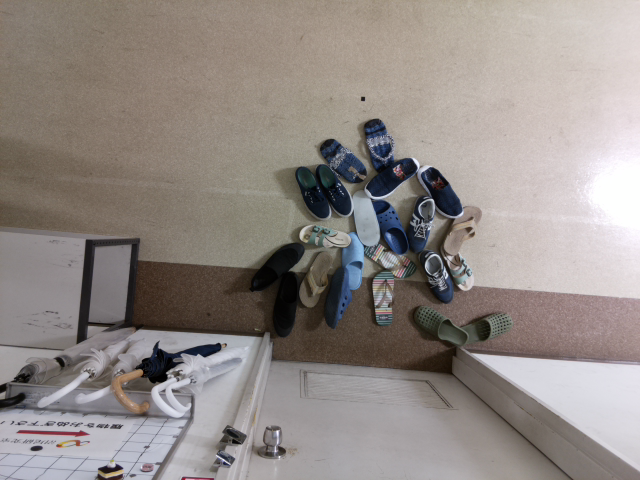Copy of Copy of Copy of Copy of Copy of Copy of Copy of Copy of Copy of Copy of: (247, 241, 307, 293), (437, 202, 485, 257), (360, 239, 420, 280), (416, 247, 461, 300), (295, 247, 335, 306), (436, 240, 478, 294), (349, 183, 384, 246), (323, 264, 355, 332), (269, 271, 301, 338), (336, 229, 368, 290), (293, 221, 354, 251), (406, 194, 437, 253)
Copy of Copy of Copy of Copy of Copy of Copy of Copy of Copy of Copy of shoe: (365, 194, 408, 256)
Copy of Copy of Copy of Copy of Copy of Copy of Copy of Copy of shoe: (362, 150, 421, 195)
Copy of Copy of Copy of Copy of Copy of Copy of Copy of shoe: (415, 164, 464, 218)
Copy of Copy of Copy of Copy of Copy of Copy of shoe: (317, 133, 366, 184)
Copy of Copy of Copy of Copy of Copy of shoe: (363, 118, 398, 175)
Copy of Copy of Copy of Copy of shoe: (311, 161, 356, 218)
Copy of Copy of Copy of shoe: (289, 164, 334, 221)
Copy of Copy of shoe: (368, 268, 396, 326)
Copy of shoe: (449, 311, 516, 345)
shoe: (410, 303, 471, 347)
